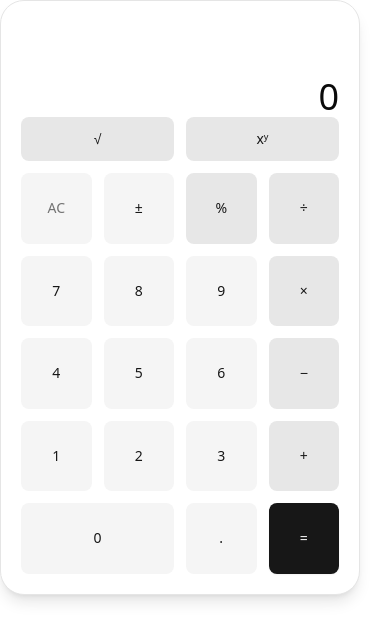
Calculator › T-2: unary path posts sqrt without b
Click the button "9" at (221, 291), box [186,256,256,326]
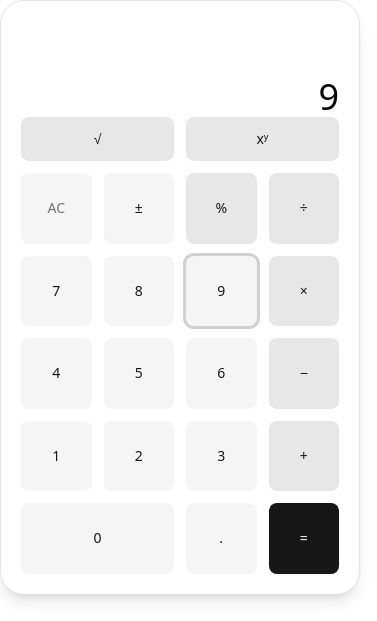
Click the button named "square root" at (98, 139), box [21,117,174,161]
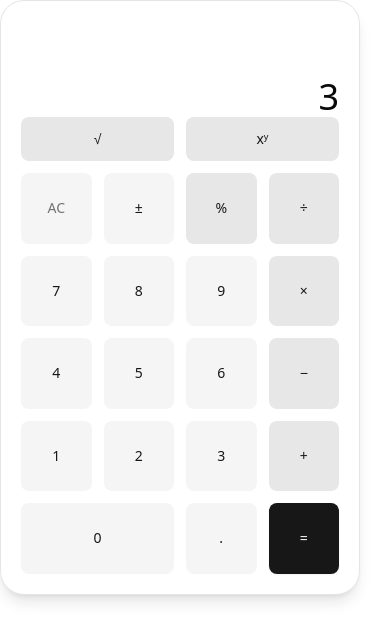
Expected: the text with test id "calculator-display" reads "3", [318,72,339,121]
